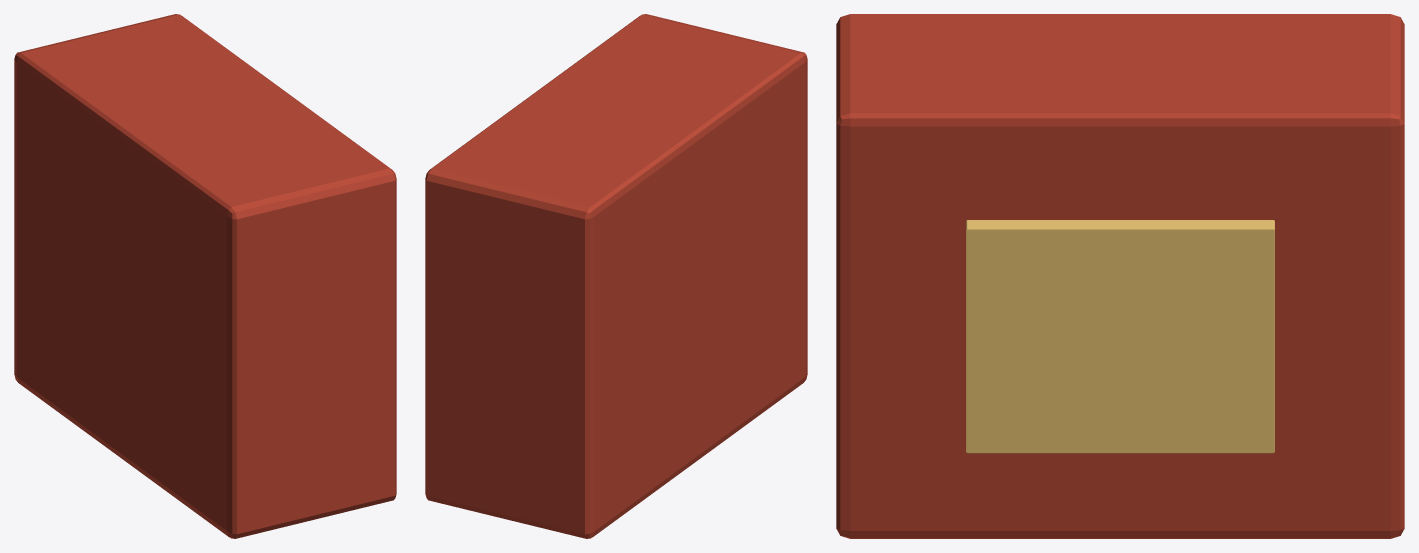
The model's file is frozen_item.glb.
3 renders of one model, left to right at view 1: azimuth 30°, elevation 25°; view 2: azimuth 150°, elevation 25°; view 3: azimuth 270°, elevation 25°, orthographic. The views are drawn at different scales.
Parts seen in each view (by area): view 1: Frozen pizza box.048; view 2: Frozen pizza box.048; view 3: Frozen pizza box.048, Pizza front panel.048.
Part boxes in pixels (x1,y1,x2,y2): Frozen pizza box.048: (14,14,396,538); Frozen pizza box.048: (425,14,807,538); Frozen pizza box.048: (836,14,1404,538); Pizza front panel.048: (966,220,1274,453).
Bounding box in the file's own units: 0.2045 × 0.347 × 0.42.
